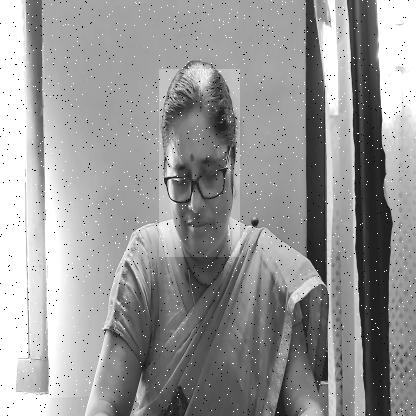Normal: (159, 69, 240, 257)
